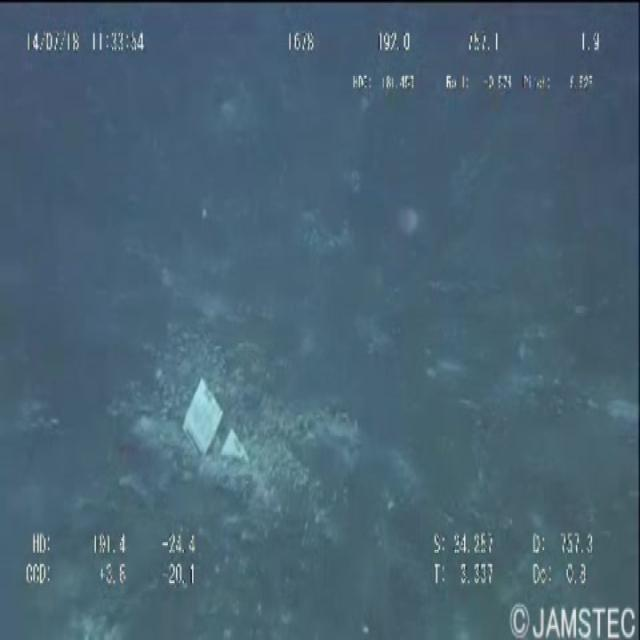Glass: (182, 371, 257, 495)
